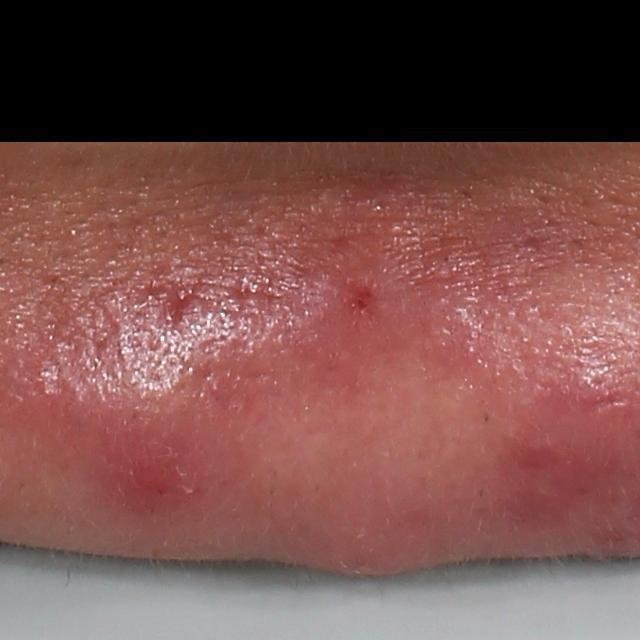nodule: (34, 338, 259, 531)
